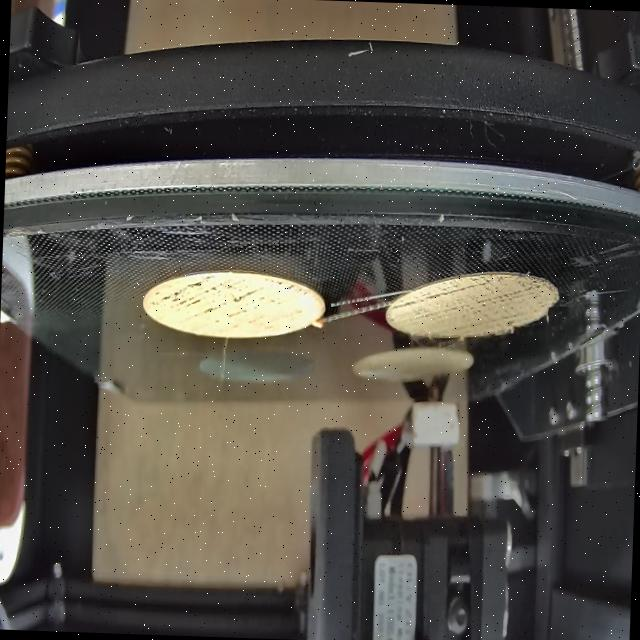under_extrusion: (146, 276, 308, 323), (392, 280, 538, 330)
